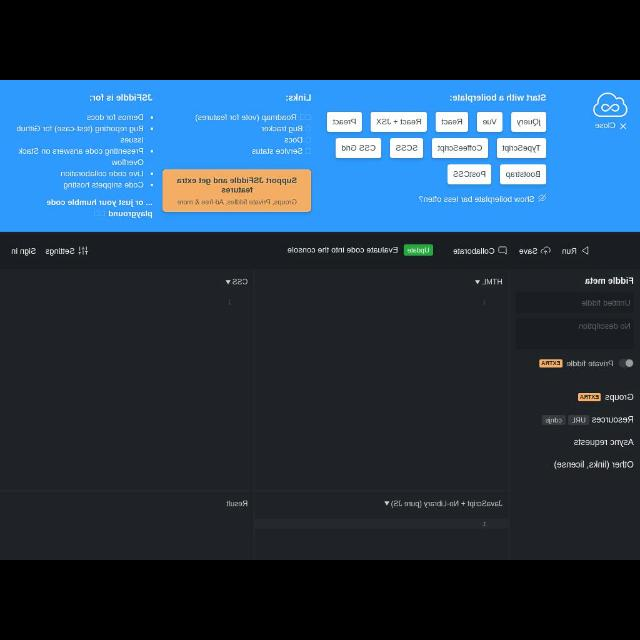icon: (78, 246, 88, 256), (498, 247, 508, 256), (540, 247, 550, 255), (582, 247, 590, 256), (94, 211, 106, 217), (538, 194, 546, 202), (300, 114, 310, 120), (620, 122, 626, 130), (305, 126, 311, 132), (305, 148, 311, 154), (306, 137, 310, 143), (475, 280, 479, 284), (226, 280, 230, 284), (385, 501, 389, 505)
image: (594, 92, 628, 118)
input: (516, 317, 634, 348), (517, 292, 635, 314)
spinner: (383, 499, 502, 508), (474, 276, 504, 286), (225, 278, 249, 286)
switch: (619, 359, 633, 368)
text: (18, 148, 154, 166), (17, 126, 154, 142), (46, 199, 152, 219), (176, 178, 298, 192), (420, 195, 534, 203), (288, 246, 398, 254), (392, 500, 502, 508), (194, 114, 296, 122), (449, 94, 547, 102), (176, 199, 298, 205), (63, 182, 154, 190), (554, 461, 634, 469), (60, 171, 154, 177), (579, 322, 631, 332), (585, 276, 635, 286), (582, 298, 630, 308), (574, 439, 634, 447), (90, 95, 152, 102), (86, 115, 154, 121), (592, 416, 634, 424), (567, 359, 613, 366), (502, 145, 540, 153), (252, 148, 302, 154), (454, 248, 494, 255), (376, 119, 420, 125), (438, 146, 482, 152), (605, 393, 633, 402), (262, 126, 302, 132), (46, 248, 74, 256), (341, 145, 375, 151), (506, 172, 540, 178), (517, 119, 541, 127), (454, 171, 486, 177), (12, 248, 36, 256), (285, 95, 311, 102), (226, 500, 248, 508), (332, 119, 356, 125), (285, 136, 303, 144), (442, 118, 462, 125), (396, 145, 418, 151), (594, 123, 616, 129), (407, 248, 429, 254), (482, 278, 502, 284), (519, 248, 537, 254), (545, 417, 563, 423), (580, 394, 598, 400), (482, 118, 498, 124), (232, 279, 248, 285), (570, 417, 586, 423), (562, 248, 576, 254), (542, 361, 560, 365), (482, 522, 486, 528), (228, 300, 232, 306), (483, 300, 487, 304)
textbutton: (163, 170, 311, 212), (369, 112, 426, 132), (432, 138, 488, 158), (499, 163, 546, 184), (498, 138, 546, 158), (448, 163, 490, 184), (336, 138, 380, 158), (391, 138, 424, 160), (326, 112, 362, 132), (512, 112, 546, 132), (436, 112, 468, 132), (476, 112, 502, 132), (403, 244, 432, 256), (541, 415, 565, 425), (568, 415, 590, 425), (540, 359, 562, 367), (578, 393, 600, 401)
toolbar: (1, 232, 639, 270)
